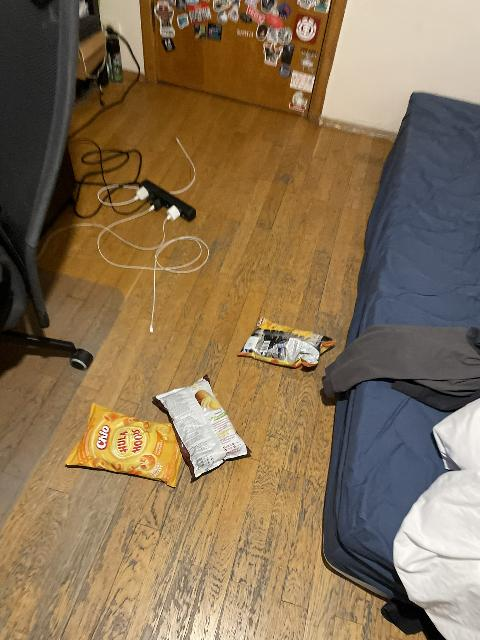Chio Cascaval 125g: (239, 318, 331, 367)
Chio Hula Hoops Cheese 70g: (64, 400, 184, 485)
Lays Beef Grilled Ribs 125g: (152, 375, 253, 482)
